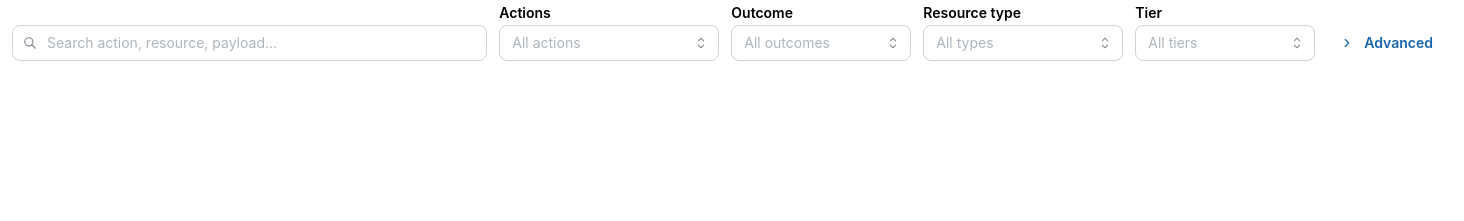
Test: <AuditFilterBar> › toggling Advanced reveals the unbounded controls
Click the button with test id "audit-advanced-toggle".
click(1390, 43)  # box left=1327, top=25, right=1452, bottom=61
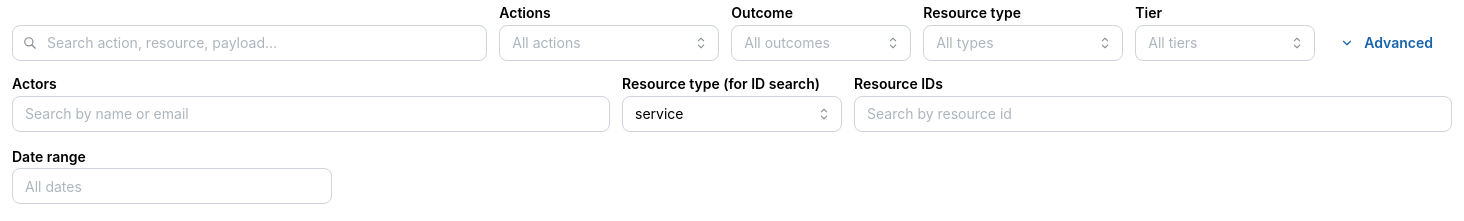
Check: the button with test id "audit-advanced-toggle" is expanded, box left=1327, top=25, right=1452, bottom=61
Check: the element with test id "audit-actor-filter" is shown, box left=12, top=96, right=610, bottom=132
Check: the element with test id "audit-resource-id-filter" is shown, box left=854, top=96, right=1452, bottom=132
